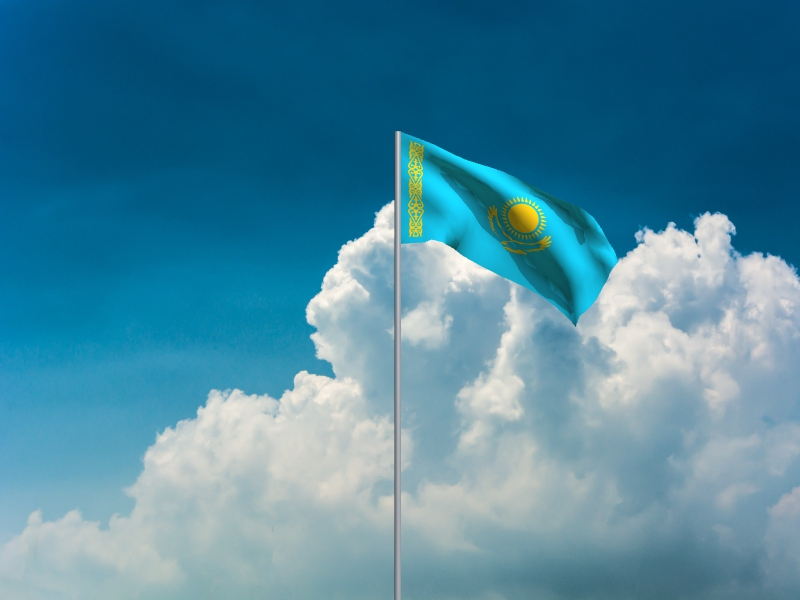kz: (402, 133, 620, 329)
